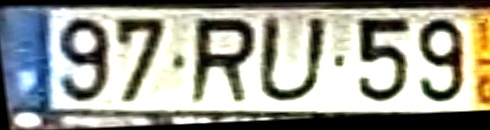5: (352, 15, 415, 104)
7: (111, 15, 169, 106)
9: (54, 15, 115, 105), (413, 15, 469, 105)
R: (185, 15, 260, 107)
U: (253, 15, 333, 105)
